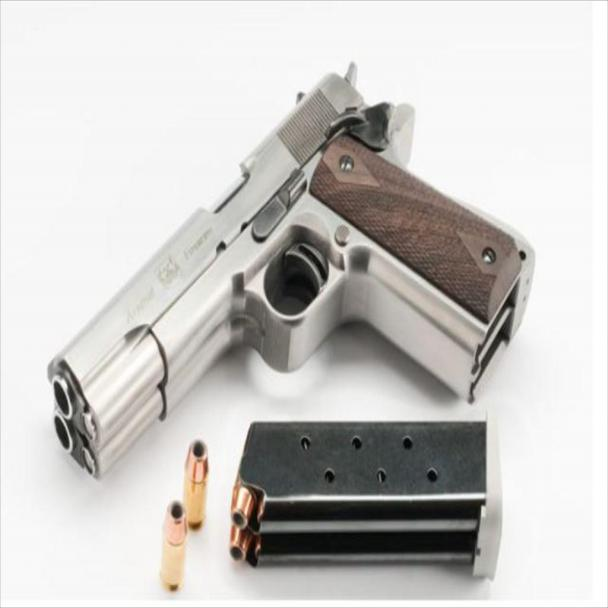Gun: (28, 62, 540, 480)
